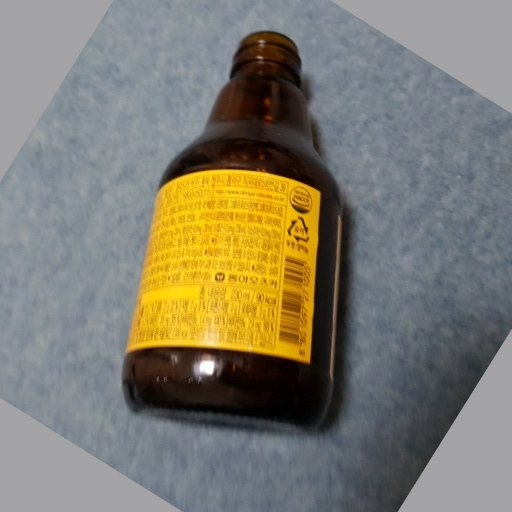Glass_3: (124, 25, 343, 433)
